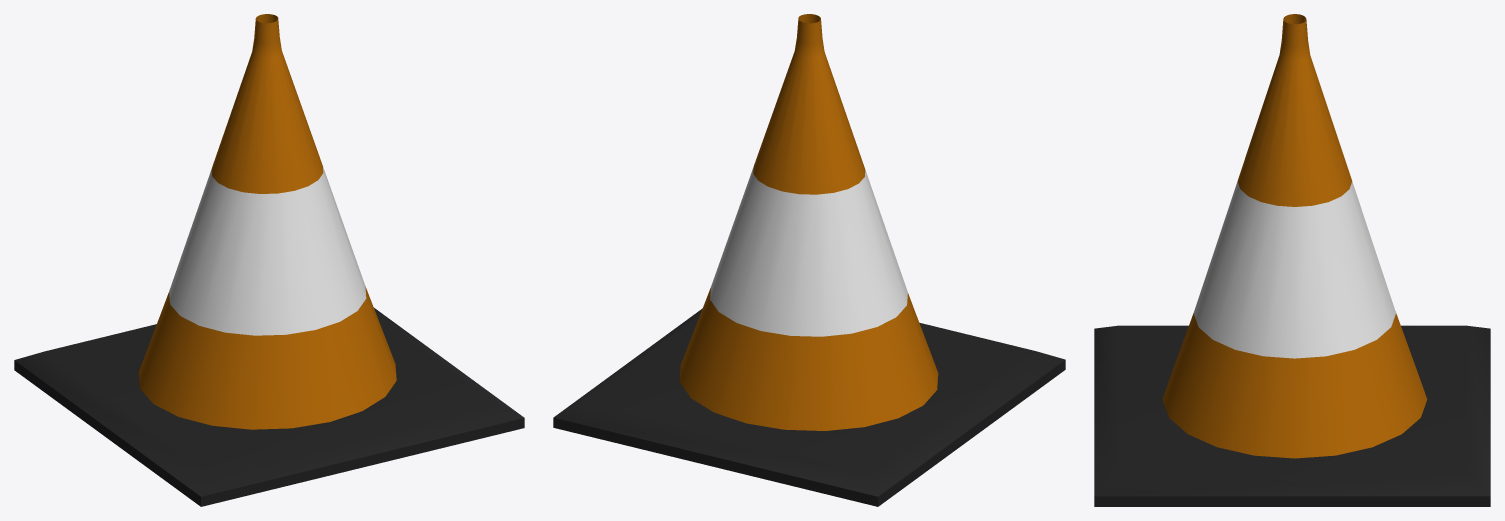
Rendered from extra_Cone.obj.
The picture shows the model from 3 angles, left to right: view 1: azimuth 30°, elevation 25°; view 2: azimuth 150°, elevation 25°; view 3: azimuth 270°, elevation 25°; orthographic projection. The views are drawn at different scales.
Visible parts, largest first — view 1: polySurface86; view 2: polySurface86; view 3: polySurface86.
Boxes of the visible parts, bbox=[...] form: polySurface86: bbox=[14, 14, 524, 506]; polySurface86: bbox=[553, 14, 1065, 506]; polySurface86: bbox=[1094, 14, 1490, 506].
Size of the model in its own units: 0.852 by 0.9716 by 0.852.
